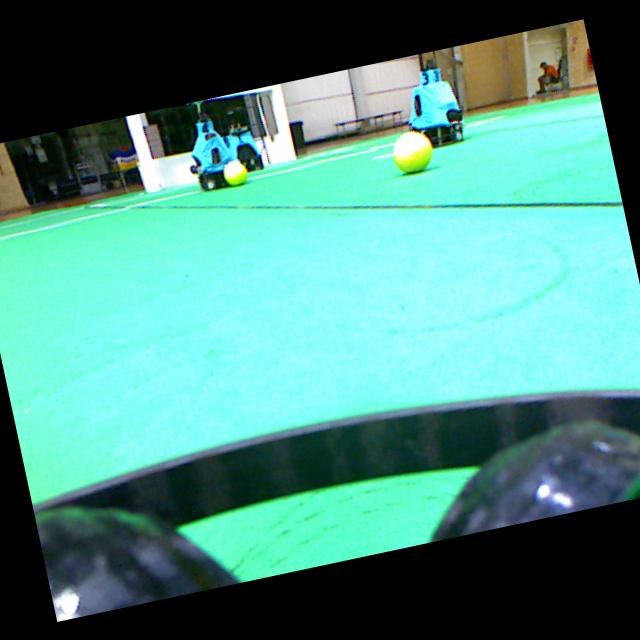ball: (392, 131, 431, 172), (223, 159, 246, 185)
goal: (125, 113, 159, 191), (270, 83, 295, 160)
